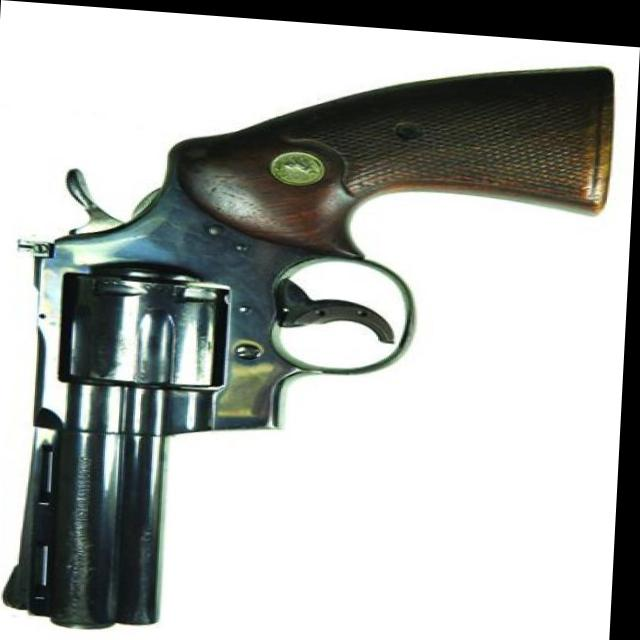handgun: (0, 23, 639, 640)
